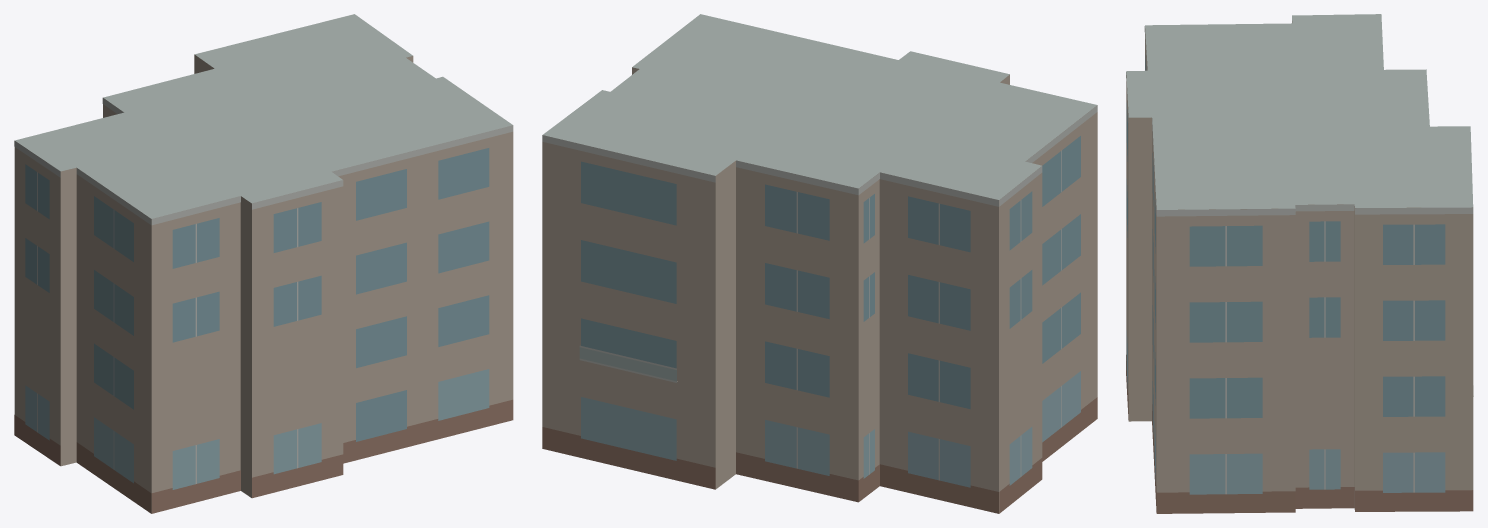
File: survey-upis-32602803.glb
3 views of the same model, side by side, from view 1: azimuth 30°, elevation 25°; view 2: azimuth 150°, elevation 25°; view 3: azimuth 270°, elevation 25° (orthographic). The views are drawn at different scales.
Visible parts, largest first — view 1: survey-upis-32602803.tmp; view 2: survey-upis-32602803.tmp; view 3: survey-upis-32602803.tmp.
Boxes of the visible parts, bbox=[...] form: survey-upis-32602803.tmp: bbox=[14, 14, 513, 513]; survey-upis-32602803.tmp: bbox=[542, 14, 1097, 513]; survey-upis-32602803.tmp: bbox=[1126, 14, 1473, 513].
Bounding box in the file's own units: 15.64 × 11.3 × 11.72.
